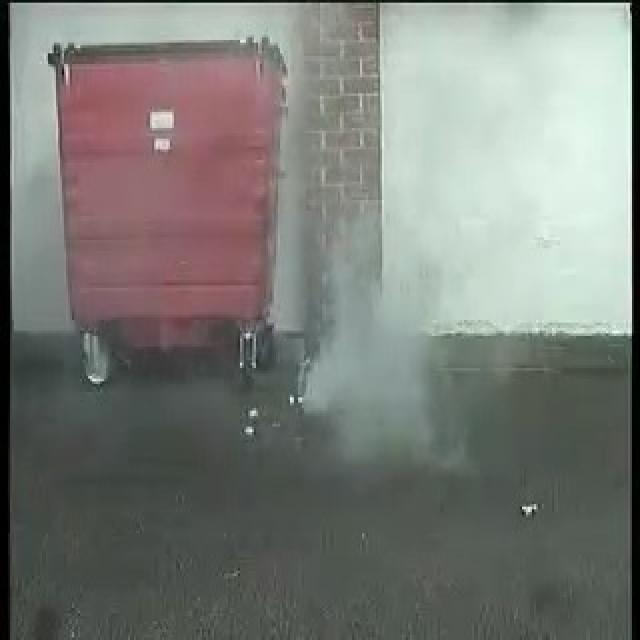smoke: (299, 211, 397, 448)
